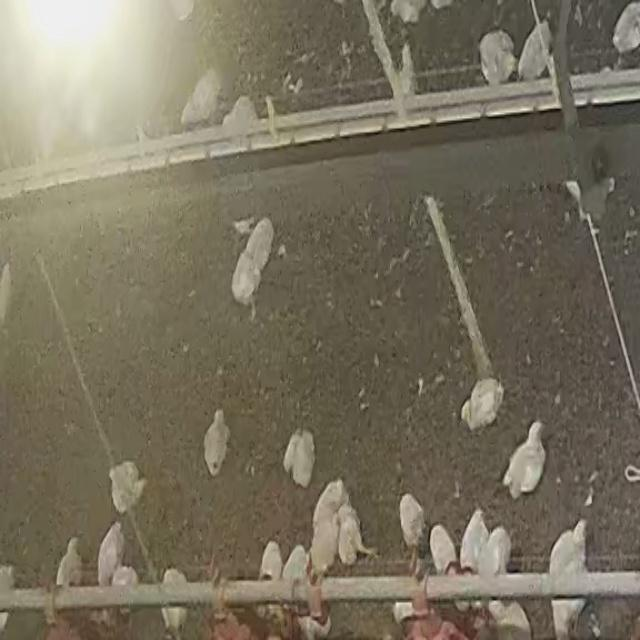chicken: (231, 217, 275, 314), (548, 564, 600, 640), (503, 421, 546, 498), (538, 523, 595, 574), (179, 67, 222, 126), (461, 379, 504, 433), (336, 503, 371, 568), (517, 22, 555, 80), (476, 30, 515, 84), (108, 460, 146, 514), (485, 597, 532, 640), (283, 429, 316, 489), (158, 570, 188, 633), (307, 480, 352, 522), (203, 410, 231, 477), (304, 517, 338, 572), (95, 527, 125, 587), (485, 525, 514, 586), (220, 96, 260, 140), (609, 2, 640, 56), (396, 493, 422, 553), (464, 510, 485, 582), (264, 539, 282, 619), (429, 528, 455, 582), (116, 565, 137, 616), (60, 540, 80, 592), (389, 0, 424, 25), (288, 545, 306, 587), (168, 0, 195, 22)
